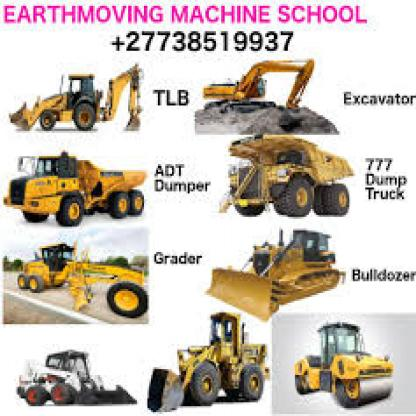bull_dozer/loader/grader: (155, 309, 272, 414), (16, 238, 153, 312)
dump_truck: (5, 131, 146, 223)
excavator: (202, 52, 340, 134)
